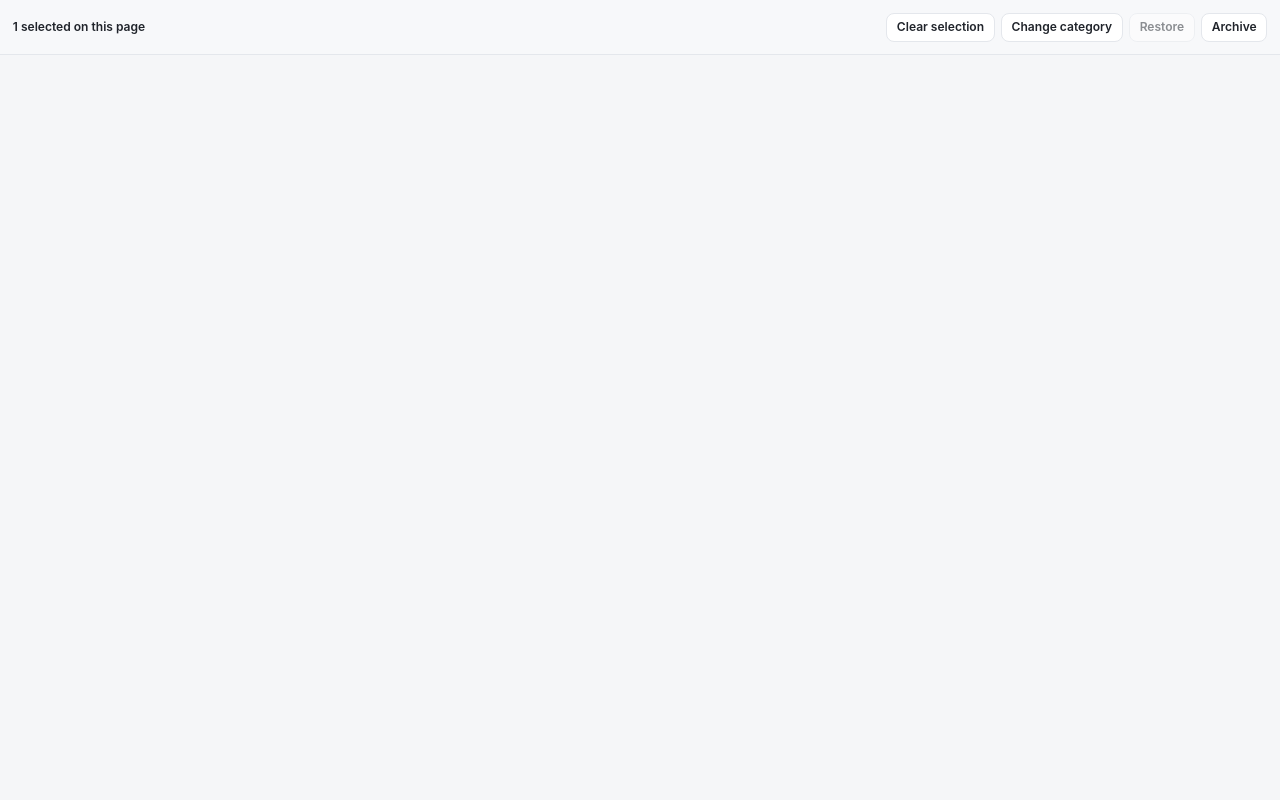
Test case: Bulk product category changes › does not overwrite a product changed after selection
Click the button "Change category": click(1062, 27) 1001,13 -> 1123,42
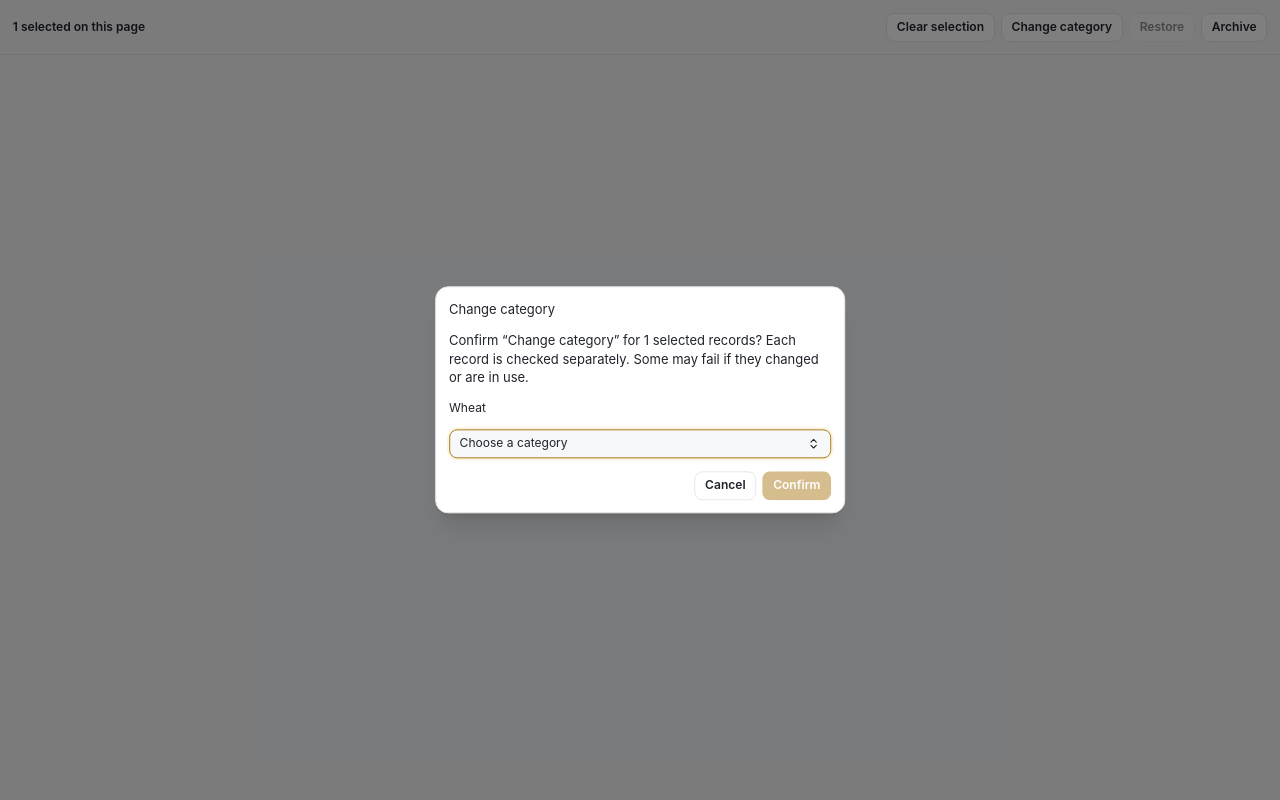
Click the dropdown labelled "Choose a category": click(514, 443) 449,430 -> 831,458
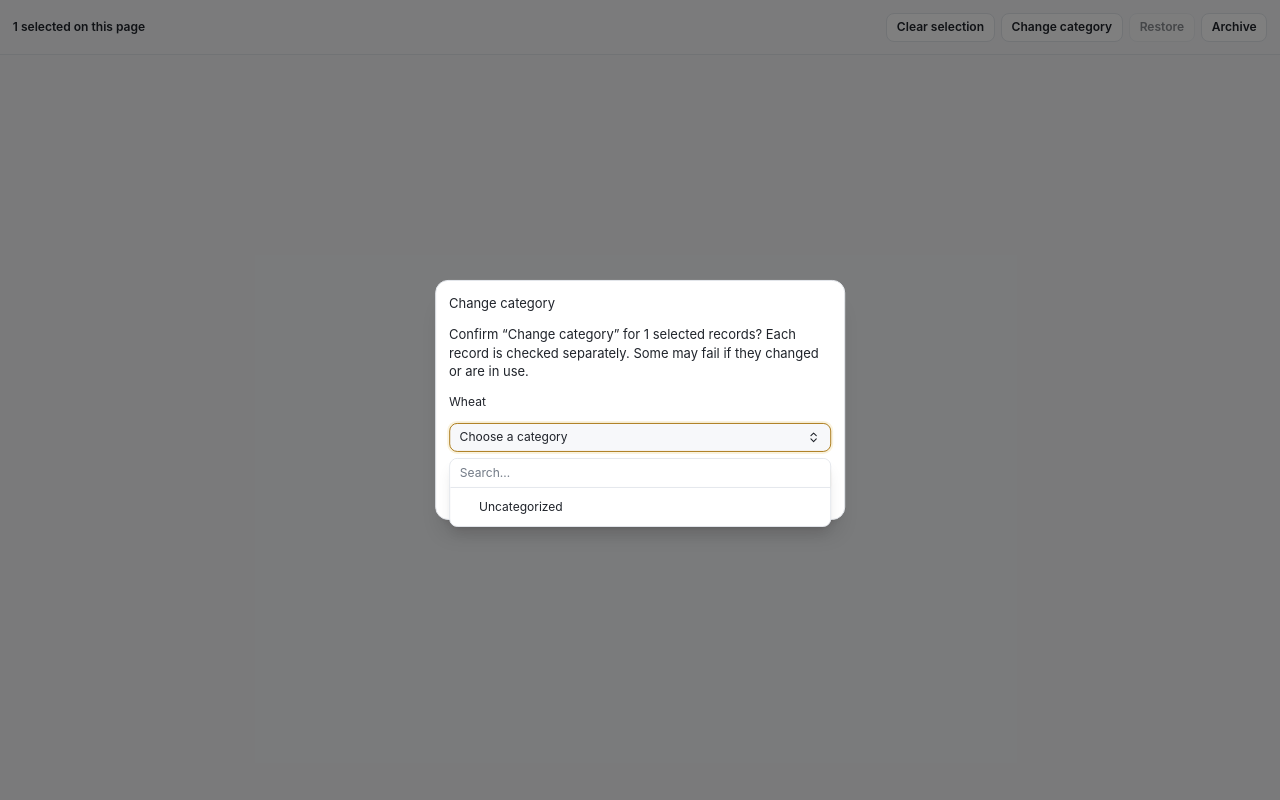
Click the option "Uncategorized": click(521, 506) 479,499 -> 563,514
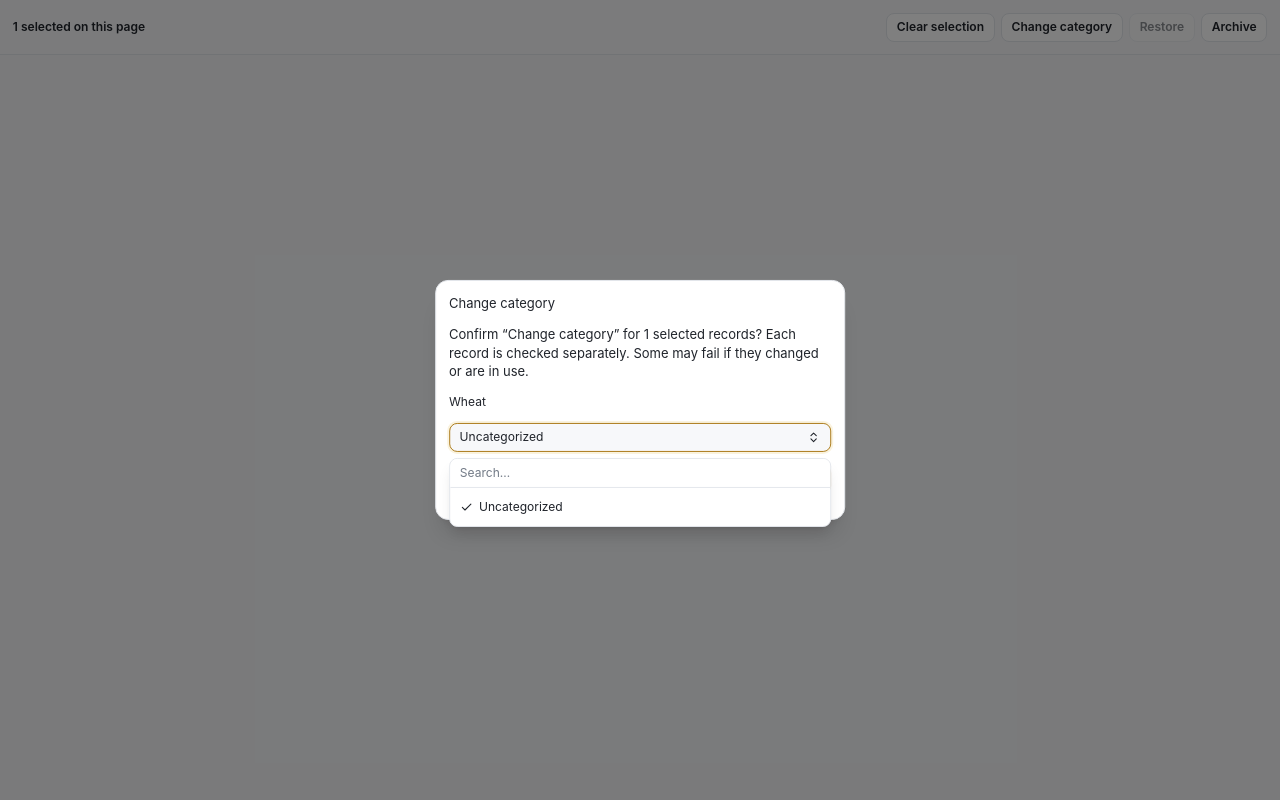
Click the button "Confirm": click(797, 479) 763,465 -> 831,494
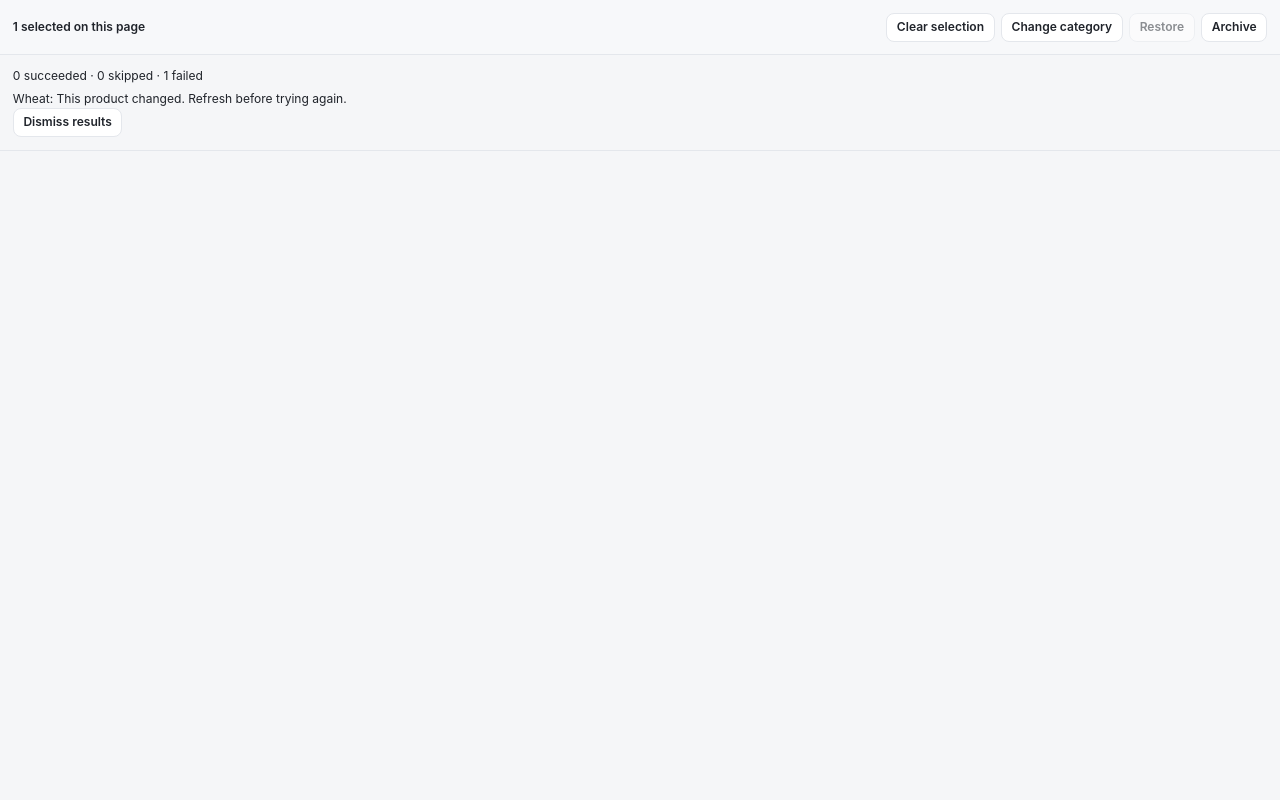
Expected: the text "0 succeeded · 0 skipped · 1 failed" is shown, 13,68 -> 203,83
